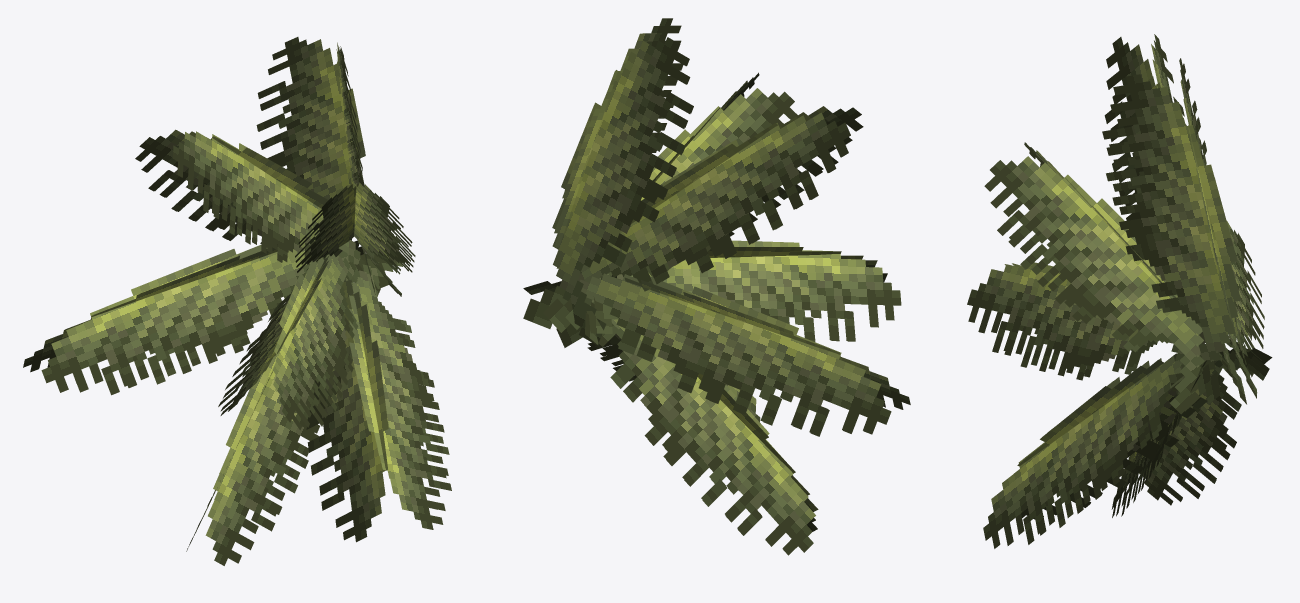
Rendered from palm_leaves_large_4.obj.
The picture shows the model from 3 angles, left to right: view 1: azimuth 30°, elevation 25°; view 2: azimuth 150°, elevation 25°; view 3: azimuth 270°, elevation 25°; orthographic projection. The views are drawn at different scales.
Parts seen in each view (by area): view 1: Frond.042_Cube.005, Frond.040_Cube.005, Frond.038_Cube.005, Frond.041_Cube.005, Frond.045_Cube.006, Frond.043_Cube.005, Frond.039_Cube.005; view 2: Frond.040_Cube.005, Frond.045_Cube.006, Frond.038_Cube.005, Frond.043_Cube.005, Frond.041_Cube.005, Frond.039_Cube.005, Frond.042_Cube.005; view 3: Frond.045_Cube.006, Frond.039_Cube.005, Frond.042_Cube.005, Frond.041_Cube.005, Frond.043_Cube.005, Frond.038_Cube.005, Frond.040_Cube.005.
Boxes of the visible parts, x1,y1,x2,y2 form: Frond.042_Cube.005: [306, 254, 451, 542]; Frond.040_Cube.005: [23, 239, 388, 395]; Frond.038_Cube.005: [135, 129, 364, 270]; Frond.041_Cube.005: [218, 254, 380, 430]; Frond.045_Cube.006: [256, 37, 375, 294]; Frond.043_Cube.005: [186, 270, 384, 565]; Frond.039_Cube.005: [295, 182, 415, 296]; Frond.040_Cube.005: [523, 273, 910, 436]; Frond.045_Cube.006: [552, 18, 693, 345]; Frond.038_Cube.005: [556, 106, 863, 347]; Frond.043_Cube.005: [543, 298, 818, 555]; Frond.041_Cube.005: [586, 240, 901, 341]; Frond.039_Cube.005: [580, 72, 797, 346]; Frond.042_Cube.005: [523, 281, 760, 421]; Frond.045_Cube.006: [1102, 58, 1253, 391]; Frond.039_Cube.005: [984, 142, 1232, 414]; Frond.042_Cube.005: [983, 348, 1272, 548]; Frond.041_Cube.005: [967, 262, 1261, 394]; Frond.043_Cube.005: [1111, 350, 1269, 517]; Frond.038_Cube.005: [1104, 34, 1246, 404]; Frond.040_Cube.005: [1191, 221, 1264, 398].
Bounding box in the file's own units: 4.1 × 5.25 × 2.94.
